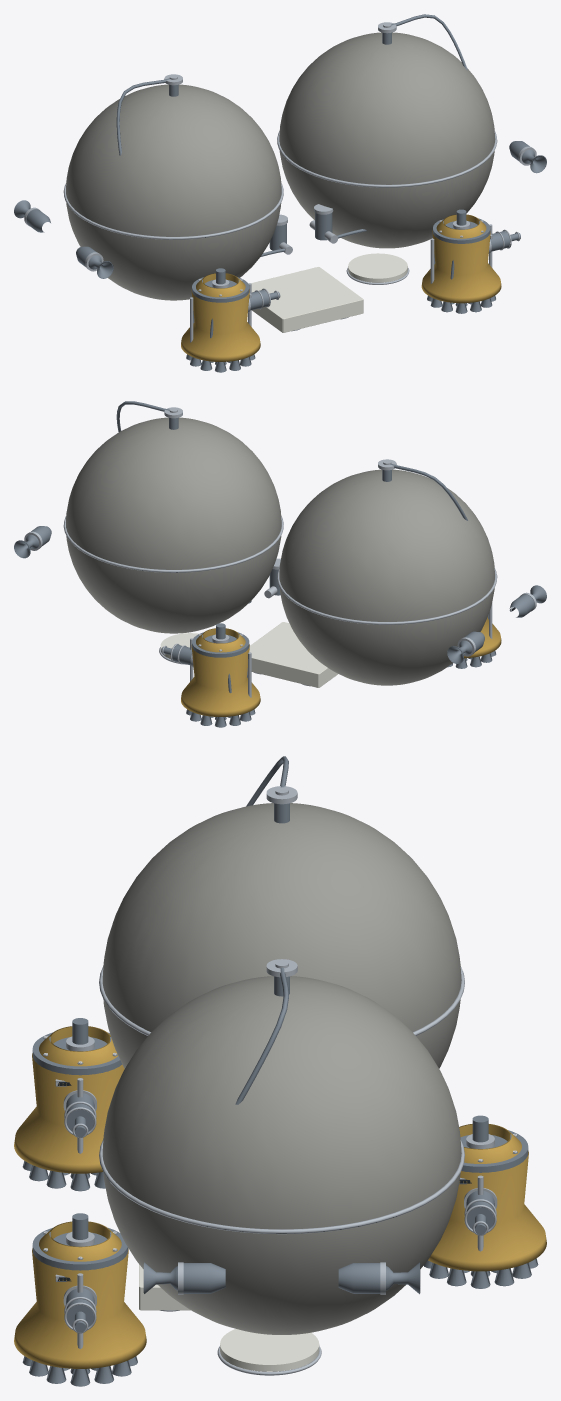
The model's file is viking-propulsion.glb.
3 renders of one model, top to bottom at view 1: azimuth 30°, elevation 25°; view 2: azimuth 150°, elevation 25°; view 3: azimuth 270°, elevation 25°, orthographic. The views are drawn at different scales.
Visible parts, largest first — view 1: TITANIUM_HYDRAZINE_TANK_1_Viking_titanium_propellant_vessel, TITANIUM_HYDRAZINE_TANK_-1_Viking_titanium_propellant_vessel, TANK_REMOVABLE_SECTOR_-1_Viking_titanium_propellant_vessel, TANK_REMOVABLE_SECTOR_1_Viking_titanium_propellant_vessel, DESCENT_RADARS_Viking_white_thermal_enamel, TERMINAL_ENGINE_1_Multilayer_thermal_foil, TERMINAL_ENGINE_2_Multilayer_thermal_foil, ENGINE_INLET_MANIFOLD_Steel_fixings (×2), TITANIUM_HYDRAZINE_TANK_1_Machined_aluminium, TITANIUM_HYDRAZINE_TANK_-1_Machined_aluminium, VALVE_MANIFOLD_Steel_fixings, ROLL_THRUSTER_-1_1_Steel_fixings (+4 smaller); view 2: TITANIUM_HYDRAZINE_TANK_1_Viking_titanium_propellant_vessel, TITANIUM_HYDRAZINE_TANK_-1_Viking_titanium_propellant_vessel, TERMINAL_ENGINE_0_Multilayer_thermal_foil, DESCENT_RADARS_Viking_white_thermal_enamel, TITANIUM_HYDRAZINE_TANK_1_Machined_aluminium, TITANIUM_HYDRAZINE_TANK_-1_Machined_aluminium, ENGINE_INLET_MANIFOLD_Steel_fixings, ROLL_THRUSTER_-1_-1_Steel_fixings, ROLL_THRUSTER_1_-1_Steel_fixings, ROLL_THRUSTER_-1_1_Steel_fixings, TERMINAL_ENGINE_2_Multilayer_thermal_foil; view 3: TITANIUM_HYDRAZINE_TANK_1_Viking_titanium_propellant_vessel, TANK_REMOVABLE_SECTOR_1_Viking_titanium_propellant_vessel, TITANIUM_HYDRAZINE_TANK_-1_Viking_titanium_propellant_vessel, TANK_REMOVABLE_SECTOR_-1_Viking_titanium_propellant_vessel, TERMINAL_ENGINE_1_Multilayer_thermal_foil, TERMINAL_ENGINE_0_Multilayer_thermal_foil, TERMINAL_ENGINE_2_Multilayer_thermal_foil, ENGINE_INLET_MANIFOLD_Steel_fixings (×3), DESCENT_RADARS_Viking_white_thermal_enamel, TITANIUM_HYDRAZINE_TANK_1_Machined_aluminium, THROTTLE_VALVE_ACTUATOR_Steel_fixings (×3), ROLL_THRUSTER_1_-1_Steel_fixings (+3 smaller).
Boxes of the visible parts, box(x1,y1,x2,y2) form: TITANIUM_HYDRAZINE_TANK_1_Viking_titanium_propellant_vessel: box(279, 32, 443, 248); TITANIUM_HYDRAZINE_TANK_-1_Viking_titanium_propellant_vessel: box(66, 84, 230, 300); TANK_REMOVABLE_SECTOR_-1_Viking_titanium_propellant_vessel: box(176, 92, 281, 277); TANK_REMOVABLE_SECTOR_1_Viking_titanium_propellant_vessel: box(390, 40, 495, 244); DESCENT_RADARS_Viking_white_thermal_enamel: box(251, 253, 407, 332); TERMINAL_ENGINE_1_Multilayer_thermal_foil: box(421, 214, 501, 303); TERMINAL_ENGINE_2_Multilayer_thermal_foil: box(181, 273, 260, 361); ENGINE_INLET_MANIFOLD_Steel_fixings (×2): box(192, 209, 490, 302); TITANIUM_HYDRAZINE_TANK_1_Machined_aluminium: box(277, 22, 497, 187); TITANIUM_HYDRAZINE_TANK_-1_Machined_aluminium: box(63, 74, 283, 239); VALVE_MANIFOLD_Steel_fixings: box(269, 213, 332, 250); ROLL_THRUSTER_-1_1_Steel_fixings: box(76, 246, 113, 278); TITANIUM_HYDRAZINE_TANK_1_Viking_titanium_propellant_vessel: box(66, 420, 281, 633); TITANIUM_HYDRAZINE_TANK_-1_Viking_titanium_propellant_vessel: box(279, 472, 494, 685); TERMINAL_ENGINE_0_Multilayer_thermal_foil: box(181, 628, 260, 716); DESCENT_RADARS_Viking_white_thermal_enamel: box(160, 622, 337, 687); TITANIUM_HYDRAZINE_TANK_1_Machined_aluminium: box(63, 407, 283, 572); TITANIUM_HYDRAZINE_TANK_-1_Machined_aluminium: box(277, 459, 497, 624); ENGINE_INLET_MANIFOLD_Steel_fixings: box(192, 623, 249, 657); ROLL_THRUSTER_-1_-1_Steel_fixings: box(447, 631, 484, 663); ROLL_THRUSTER_1_-1_Steel_fixings: box(14, 526, 51, 558); ROLL_THRUSTER_-1_1_Steel_fixings: box(509, 585, 546, 617); TERMINAL_ENGINE_2_Multilayer_thermal_foil: box(464, 617, 501, 658); TITANIUM_HYDRAZINE_TANK_1_Viking_titanium_propellant_vessel: box(103, 976, 461, 1334); TANK_REMOVABLE_SECTOR_1_Viking_titanium_propellant_vessel: box(102, 993, 281, 1334); TITANIUM_HYDRAZINE_TANK_-1_Viking_titanium_propellant_vessel: box(103, 803, 461, 1068); TANK_REMOVABLE_SECTOR_-1_Viking_titanium_propellant_vessel: box(102, 820, 281, 1068); TERMINAL_ENGINE_1_Multilayer_thermal_foil: box(14, 1221, 146, 1368); TERMINAL_ENGINE_0_Multilayer_thermal_foil: box(428, 1124, 546, 1271); TERMINAL_ENGINE_2_Multilayer_thermal_foil: box(14, 1026, 124, 1173); ENGINE_INLET_MANIFOLD_Steel_fixings (×3): box(32, 1018, 528, 1270); DESCENT_RADARS_Viking_white_thermal_enamel: box(139, 1264, 319, 1371); TITANIUM_HYDRAZINE_TANK_1_Machined_aluminium: box(99, 959, 464, 1234); THROTTLE_VALVE_ACTUATOR_Steel_fixings (×3): box(66, 1093, 494, 1332); ROLL_THRUSTER_1_-1_Steel_fixings: box(338, 1262, 420, 1294).
Size of the model in its own units: 1.39 by 0.7223 by 0.859.
